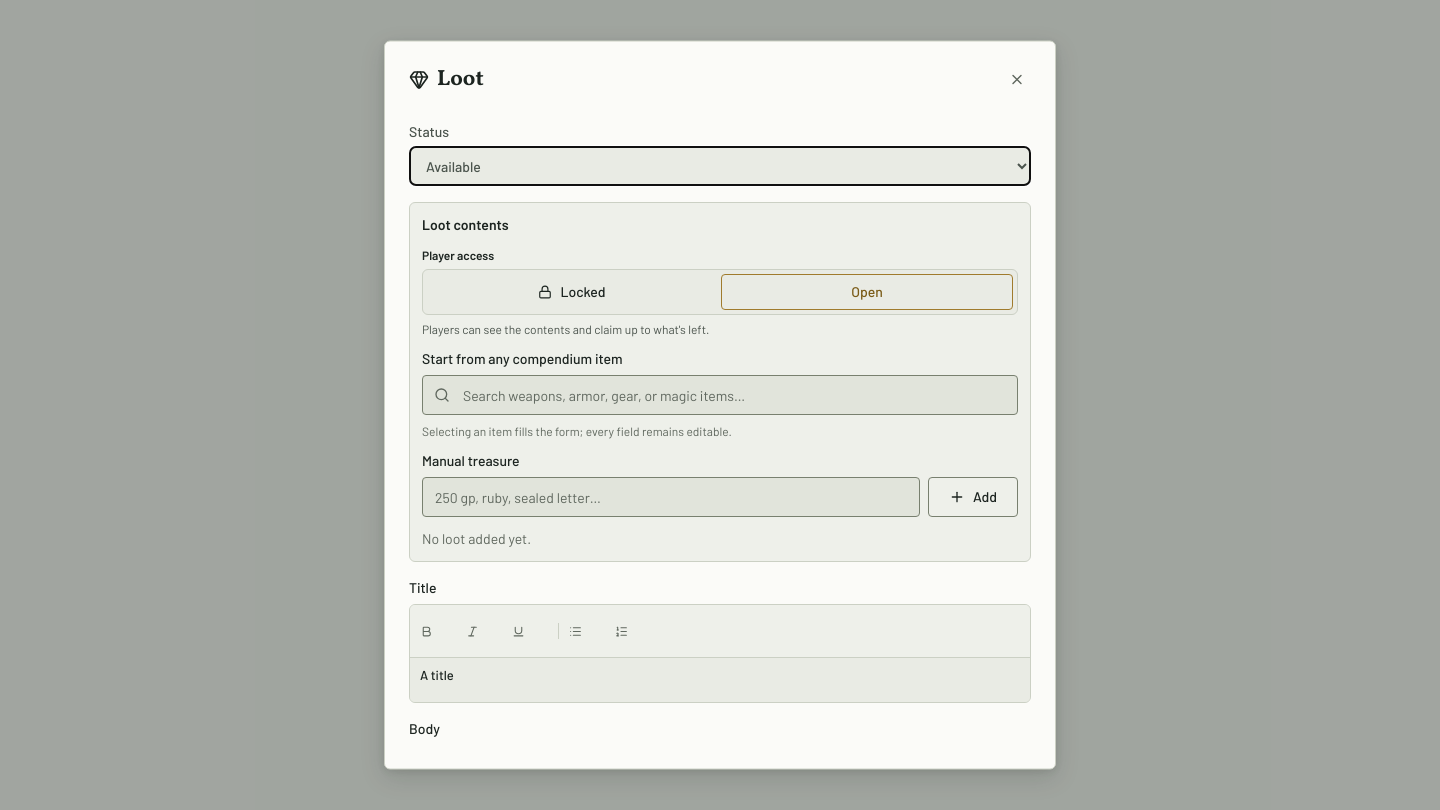
Test case: MarkerDetailPanel portal destination › loot access control › explains what locking does
Click the button "Locked" at (572, 292), box [427,274,717,310]
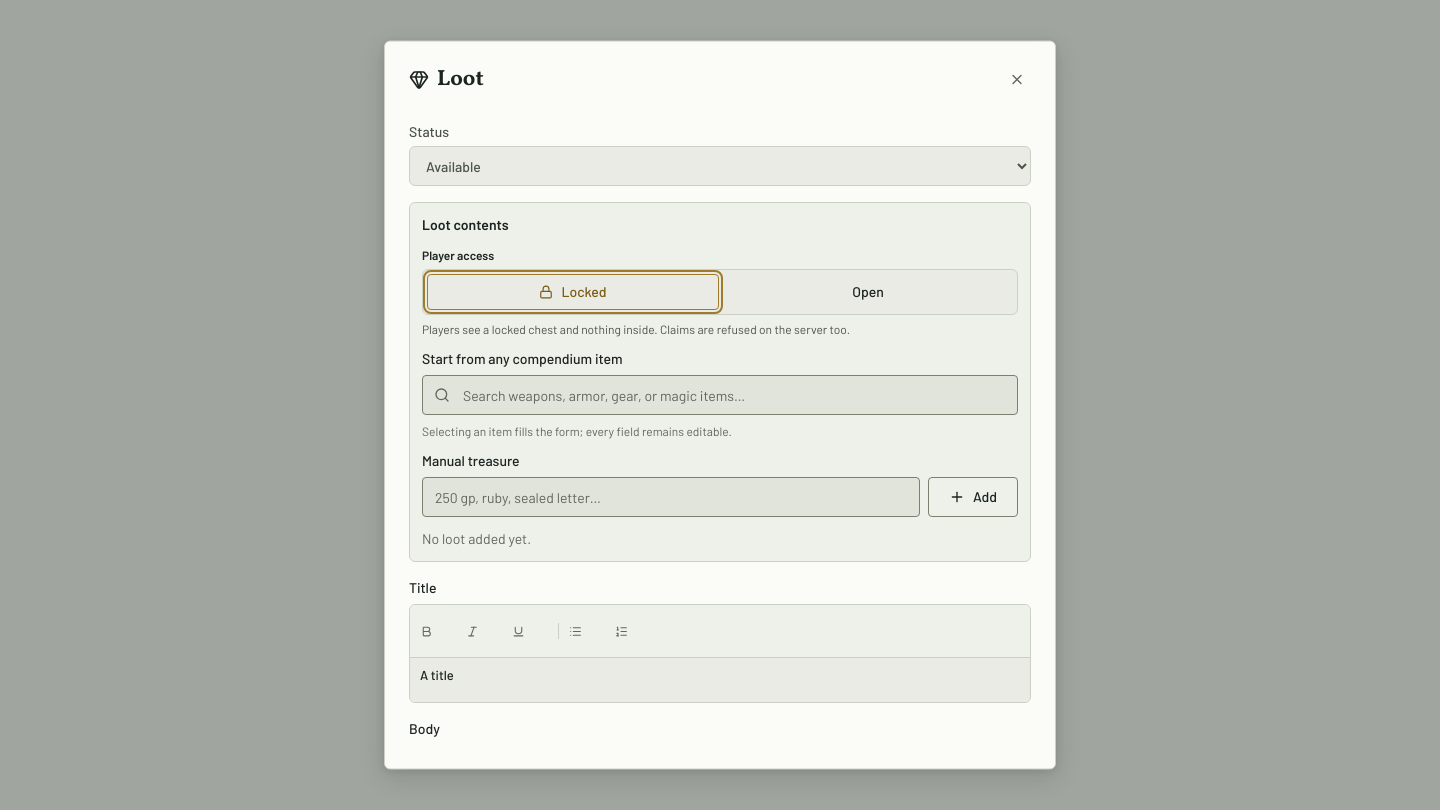
Expected: the text "claims are refused on the server too" is shown, [422,322,850,336]
